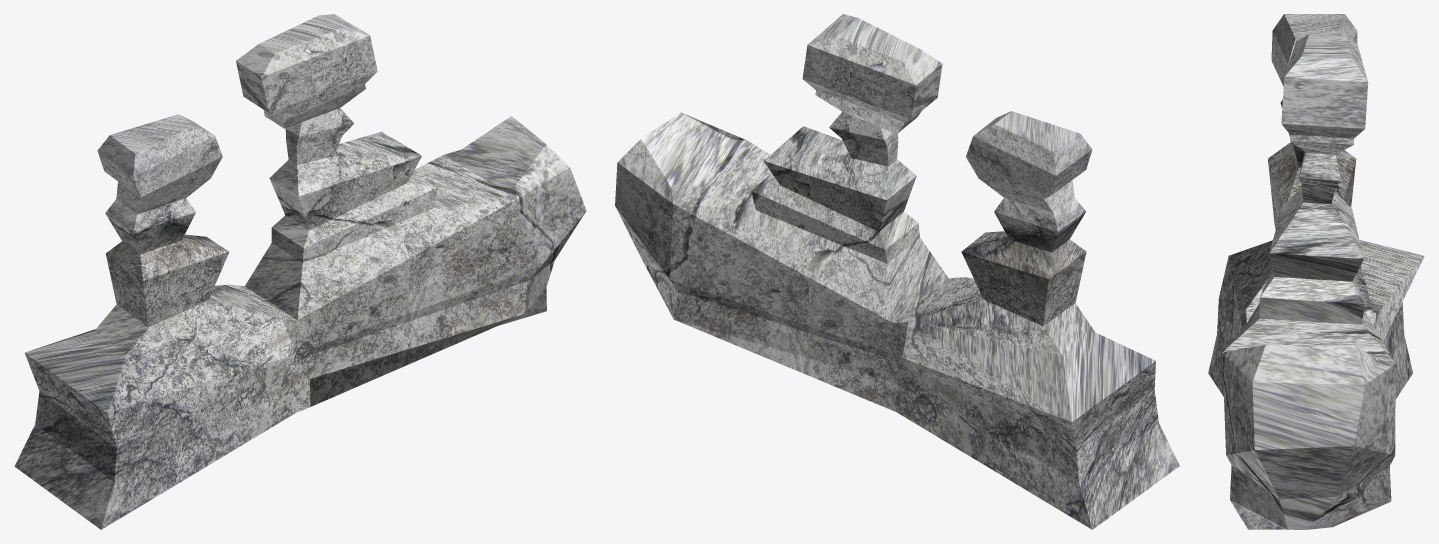
The model's file is Submarine.fbx.
3 renders of one model, left to right at view 1: azimuth 30°, elevation 25°; view 2: azimuth 150°, elevation 25°; view 3: azimuth 270°, elevation 25°, orthographic. The views are drawn at different scales.
Visible parts, largest first — view 1: Cube; view 2: Cube; view 3: Cube.
Boxes of the visible parts, bbox=[...] form: Cube: bbox=[14, 14, 586, 529]; Cube: bbox=[615, 14, 1179, 529]; Cube: bbox=[1208, 14, 1424, 529].
Size of the model in its own units: 782 by 598 by 246.
Materials: 1 (1 with a texture image).
